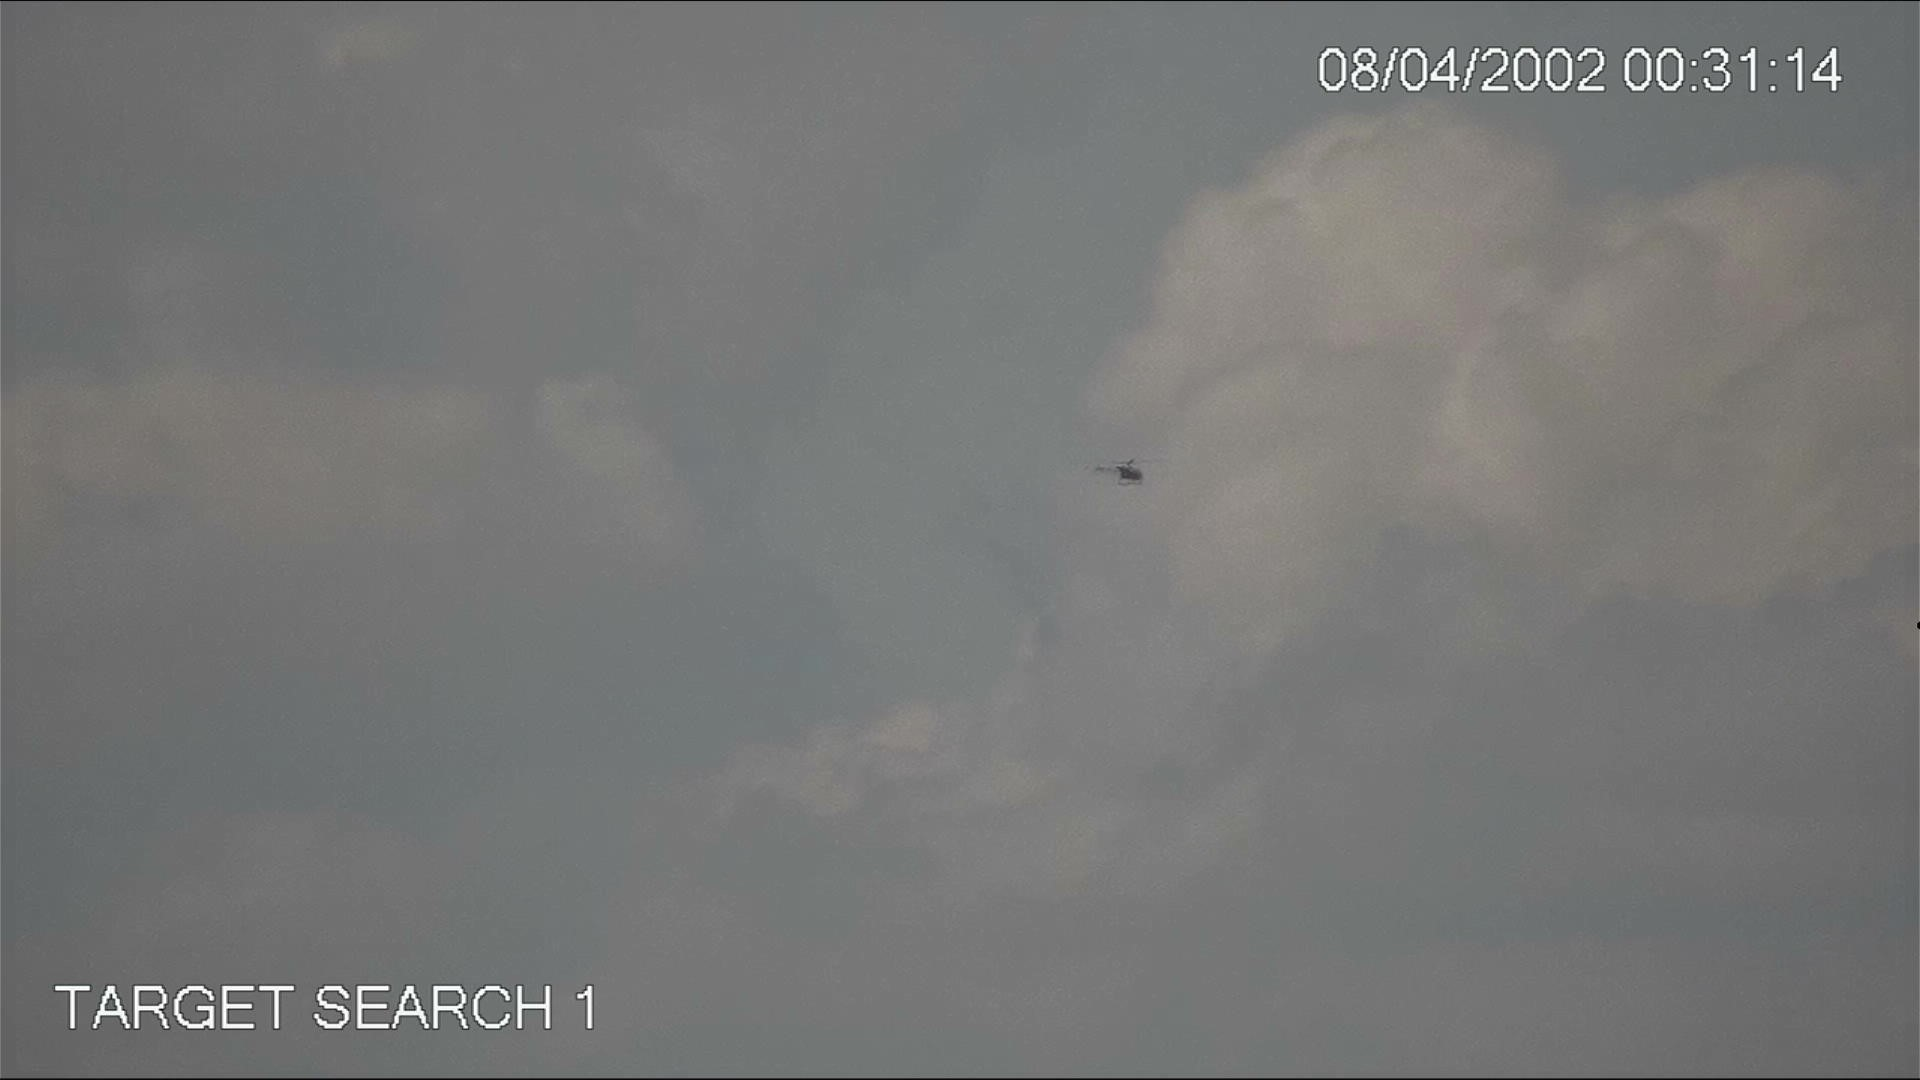SU_30: (1088, 456, 1153, 485)
